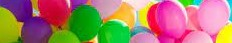Balloon: (155, 1, 187, 39), (68, 5, 102, 40), (199, 1, 230, 35), (38, 1, 69, 27), (22, 16, 51, 43), (97, 19, 129, 43), (1, 7, 20, 43)
